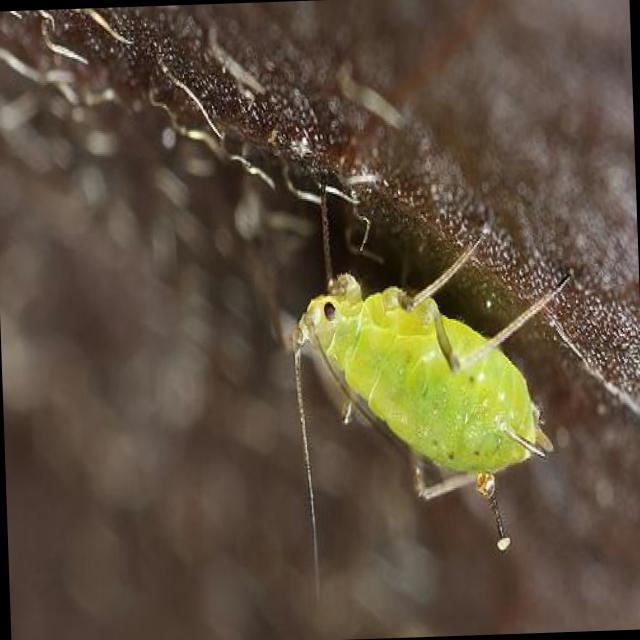Aphids: (264, 189, 590, 546)
